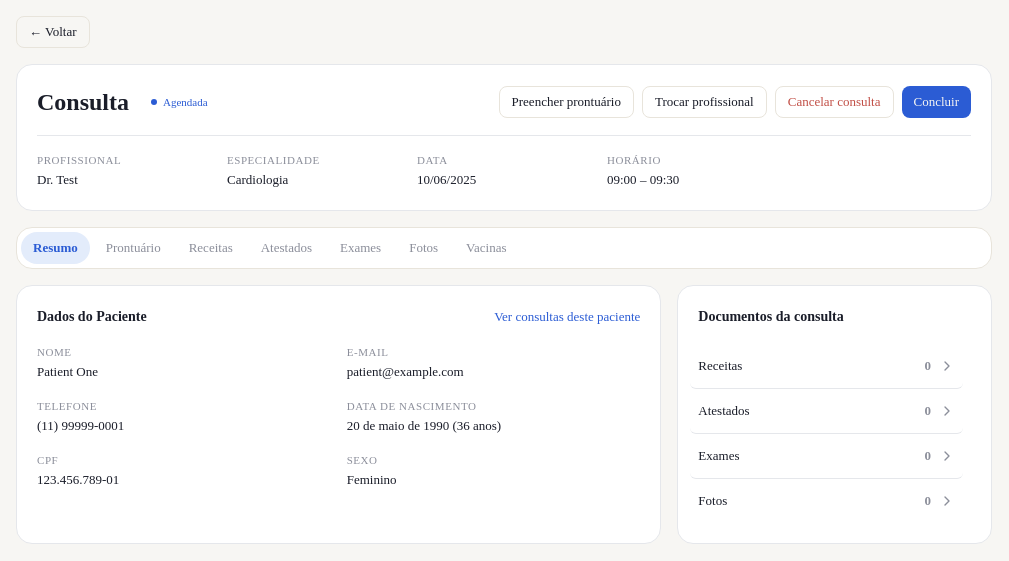
AppointmentDetailPage (integration) › ADMIN sees exames tab and can open the section
This screenshot has width=1009, height=561.
Click the tab with test id "tab-exames". click: (361, 248)
box: [328, 232, 393, 264]
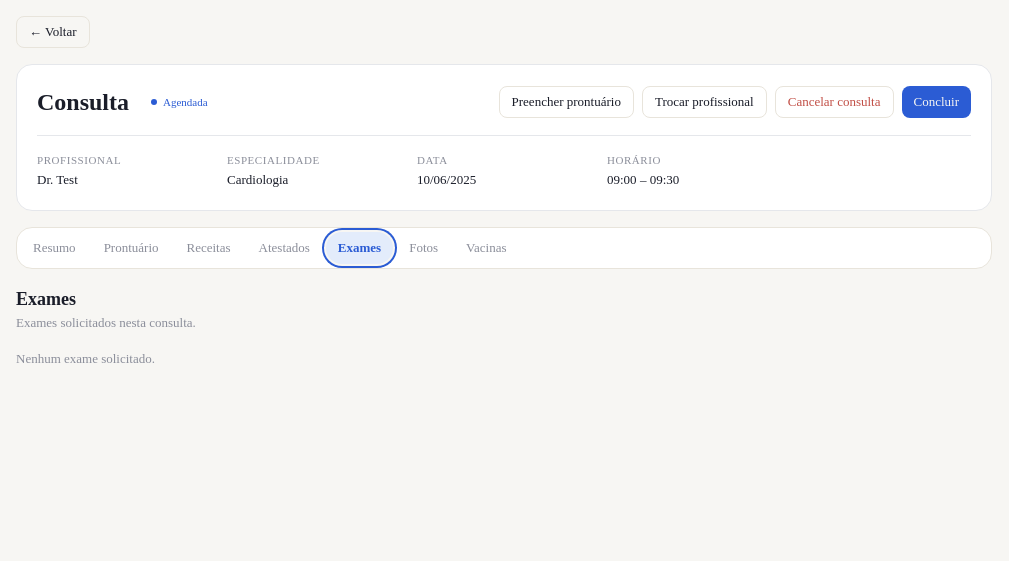
Check: the element with test id "exame-section" is shown, box [16, 289, 196, 366]
